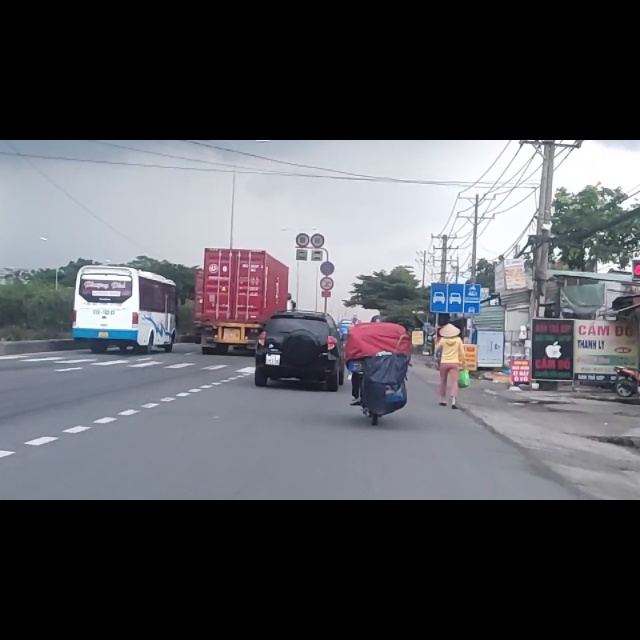bien_chi_dan: (431, 251, 479, 309), (319, 215, 335, 241), (311, 166, 325, 191), (320, 244, 334, 268), (296, 166, 309, 191)
